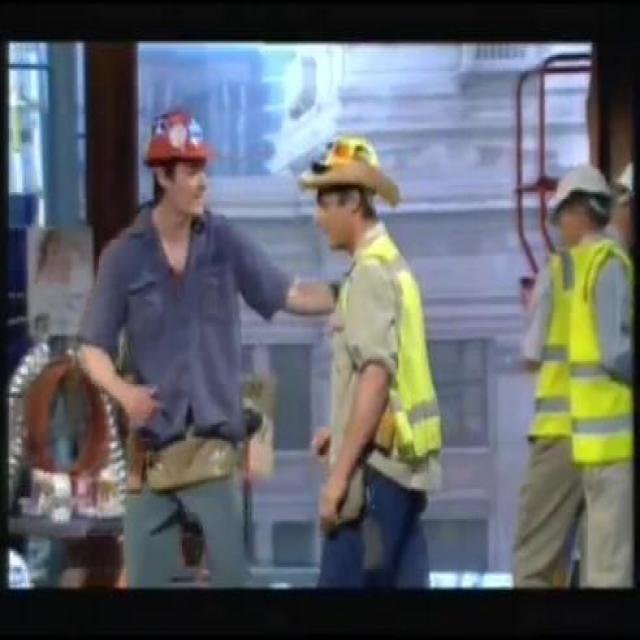Reflective-Jacket: (312, 226, 454, 503), (516, 238, 639, 473)
Safety-Helmet: (137, 98, 225, 181), (540, 155, 623, 229), (616, 149, 640, 229)
